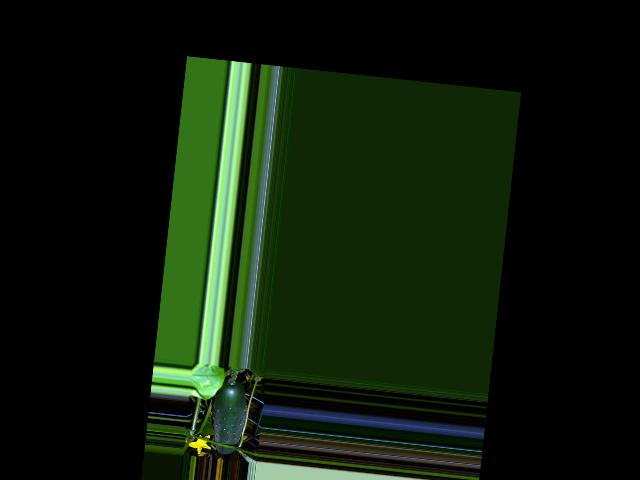cucumber: (209, 376, 249, 455)
